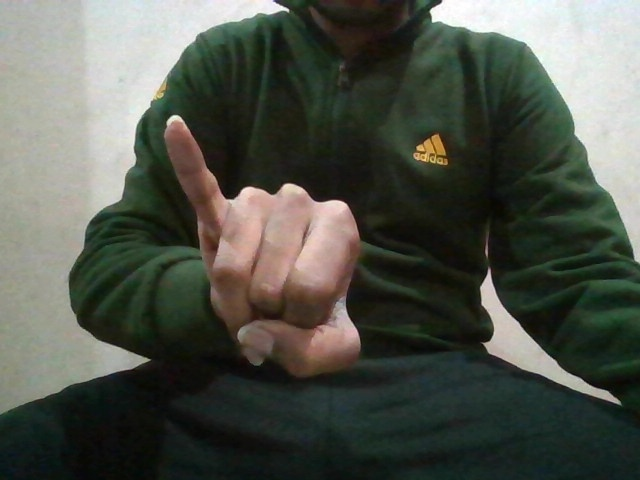I: (152, 111, 379, 384)
